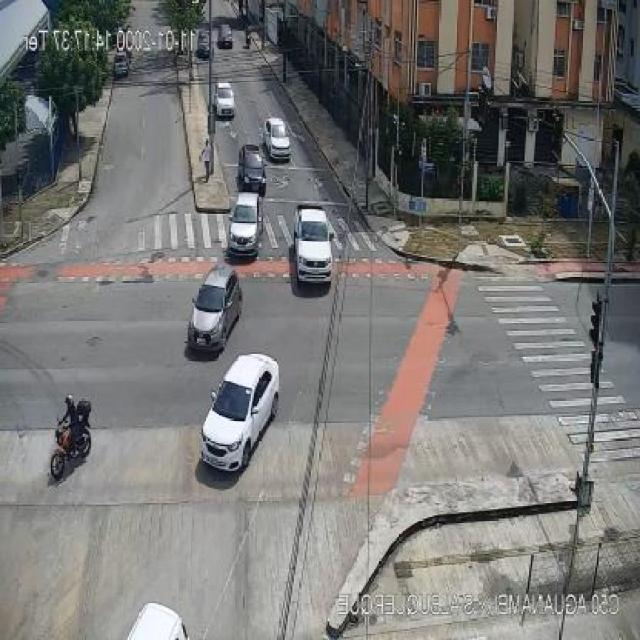Car: (194, 348, 280, 485), (187, 266, 239, 359), (293, 198, 340, 290), (227, 185, 262, 257), (206, 75, 242, 122), (234, 142, 270, 188), (260, 108, 292, 156), (108, 49, 135, 89)
Cycle: (44, 388, 102, 478)
